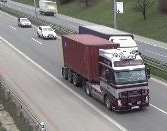truck: (62, 33, 149, 112), (77, 23, 139, 57), (37, 0, 58, 15)
